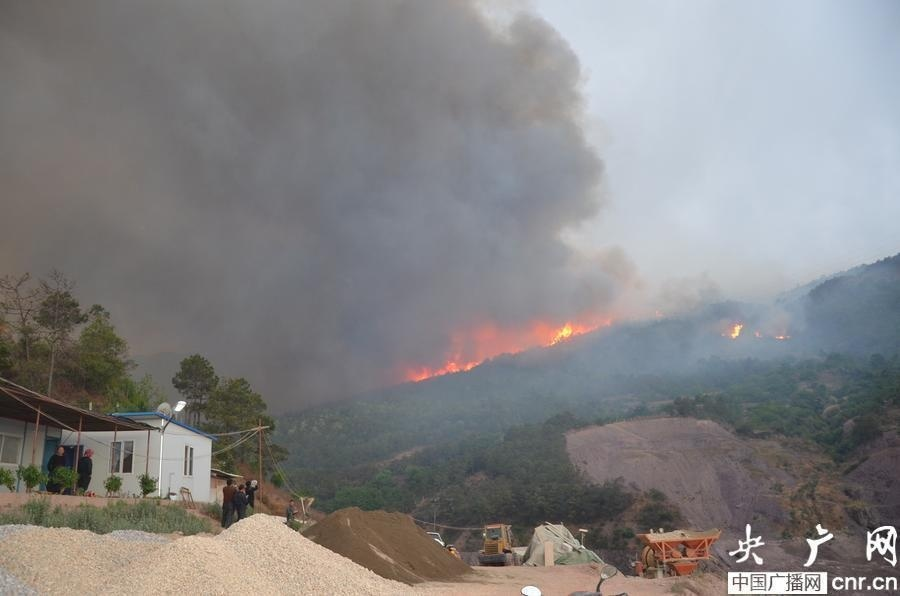fire: (400, 317, 605, 380), (723, 316, 791, 343)
